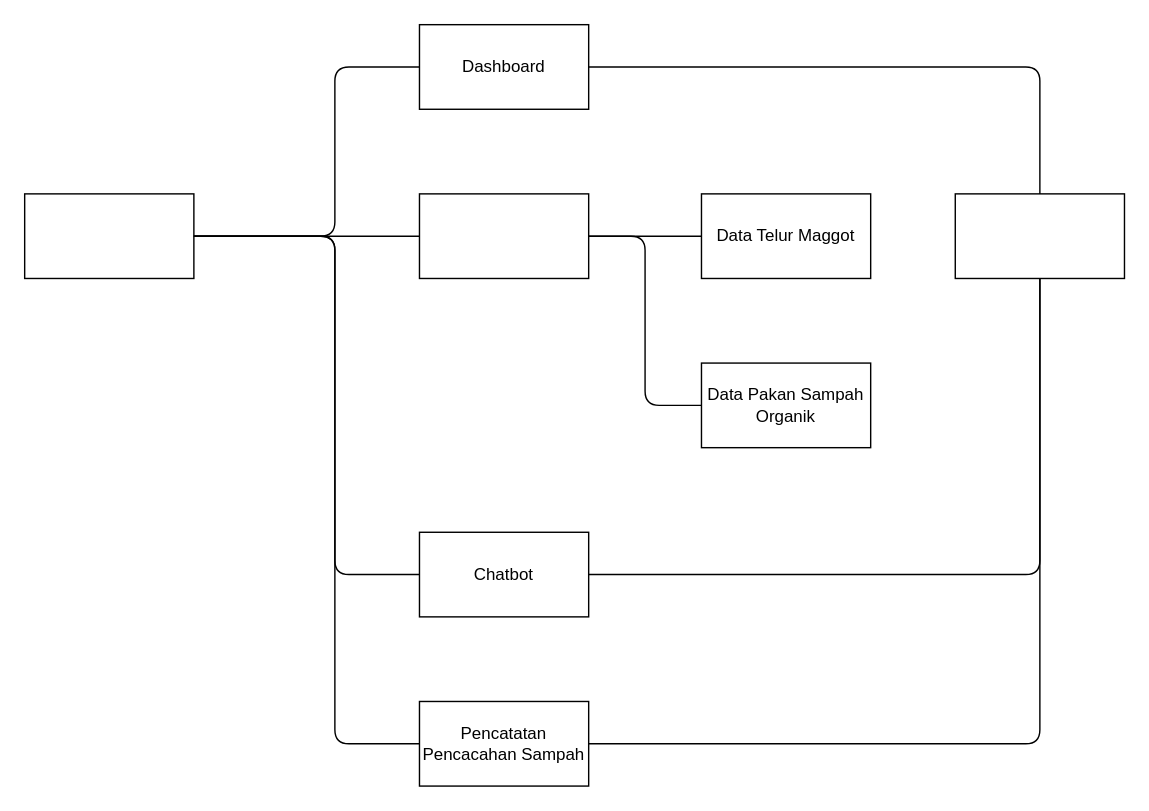
This 1149x811 diagram has some shape labels left out. Here are the shapes that lost their labels. From the top down, the centre of each, then its label:
the point at 108,235: Login
the point at 503,235: Prediksi Produksi Maggot
the point at 1039,235: Logout
